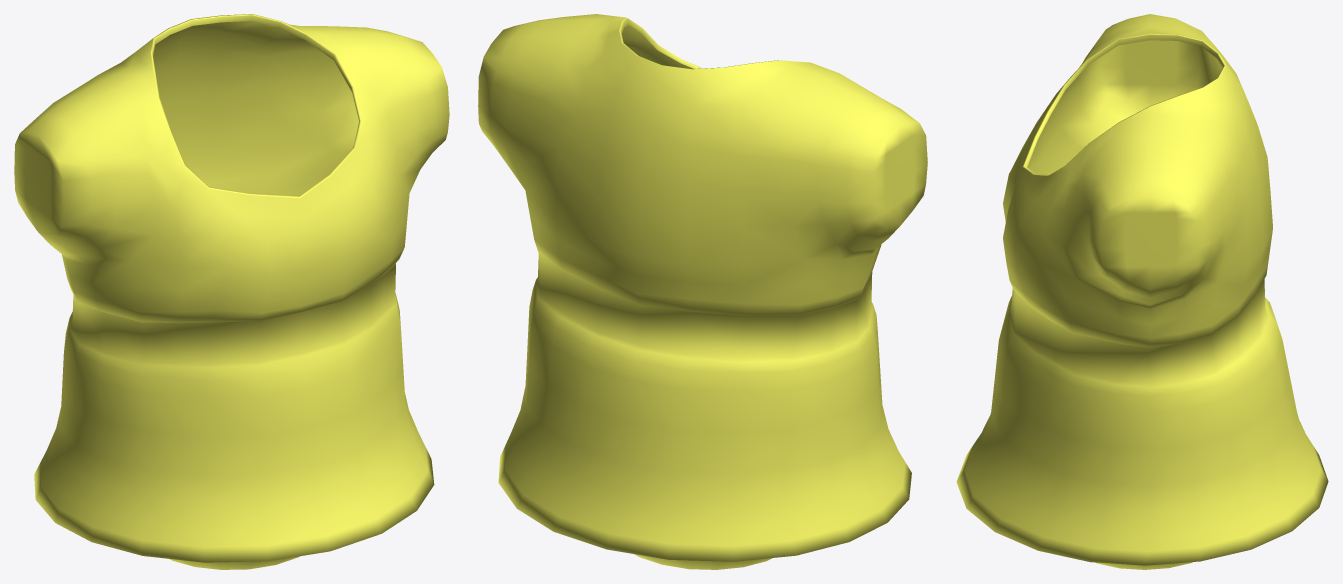
Rendered from clothes_casual_dress.glb.
The picture shows the model from 3 angles, left to right: view 1: azimuth 30°, elevation 25°; view 2: azimuth 150°, elevation 25°; view 3: azimuth 270°, elevation 25°; orthographic projection. The views are drawn at different scales.
Visible parts, largest first — view 1: clothes_casual_dress; view 2: clothes_casual_dress; view 3: clothes_casual_dress.
Part boxes in pixels (x1,y1,x2,y2): clothes_casual_dress: (14,14,449,569); clothes_casual_dress: (478,14,927,569); clothes_casual_dress: (956,14,1328,569).
Bounding box in the file's own units: 0.4226 × 0.5266 × 0.3636.
